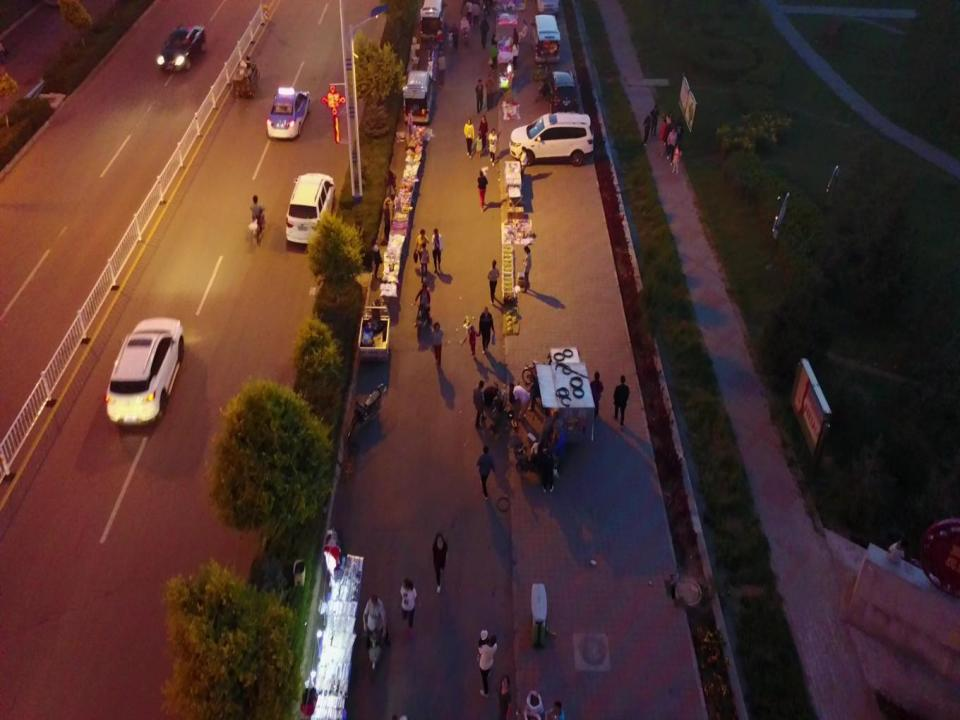car: (102, 314, 186, 430), (509, 108, 595, 167), (284, 170, 338, 251), (155, 23, 208, 75), (265, 84, 312, 141), (542, 68, 578, 114)
van: (400, 67, 435, 126), (530, 13, 563, 65), (417, 0, 446, 41)
